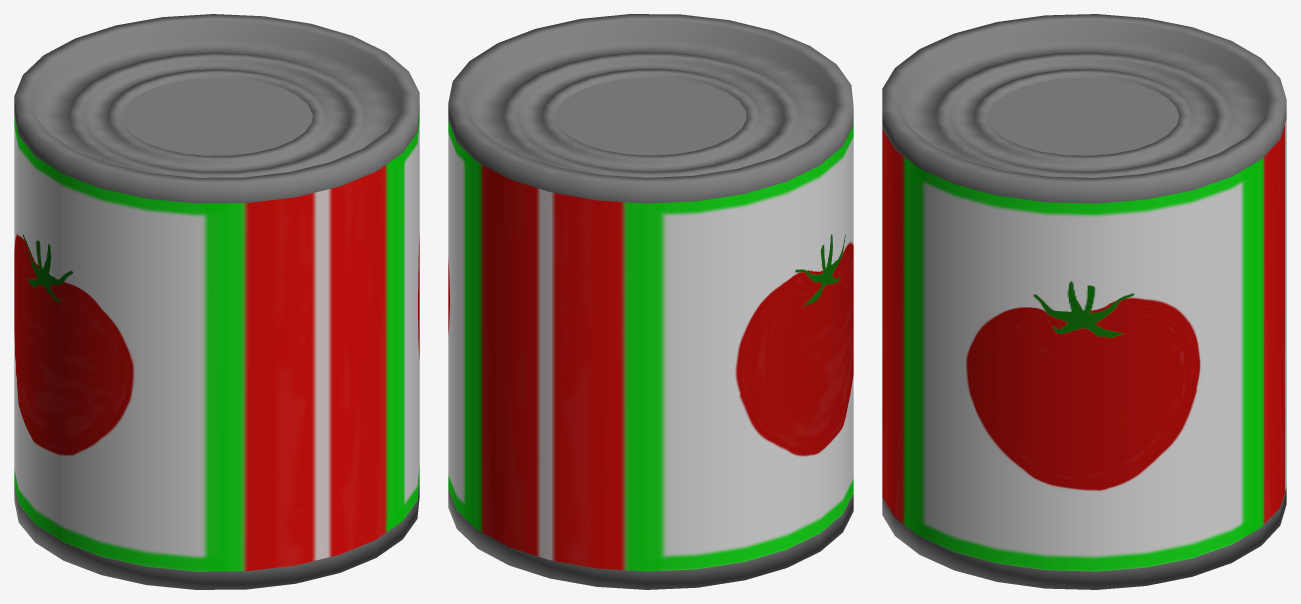
Rendered from tomato-can.glb.
3 renders of one model, left to right at view 1: azimuth 30°, elevation 25°; view 2: azimuth 150°, elevation 25°; view 3: azimuth 270°, elevation 25°, orthographic.
Visible parts, largest first — view 1: Cylinder; view 2: Cylinder; view 3: Cylinder.
Part boxes in pixels (x1,y1,x2,y2): Cylinder: [14, 14, 419, 589]; Cylinder: [448, 14, 853, 589]; Cylinder: [882, 14, 1286, 589].
Size of the model in its own units: 2 by 2.2 by 1.99.
2 materials, 1 textured.
